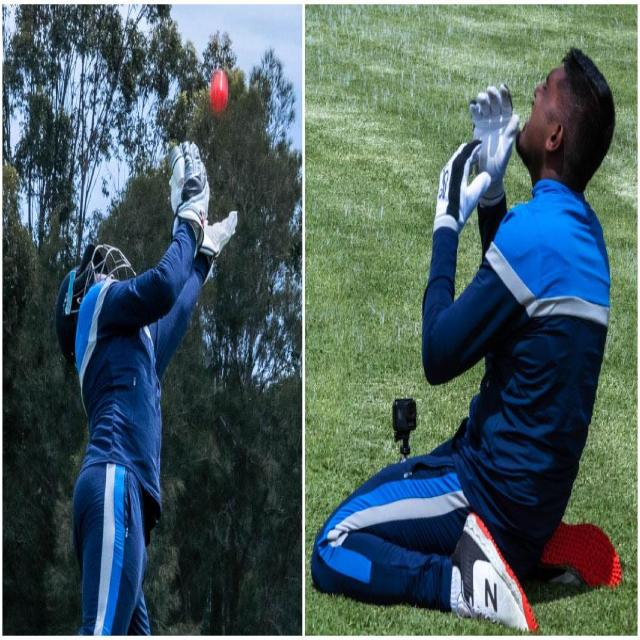ball: (192, 62, 241, 122)
